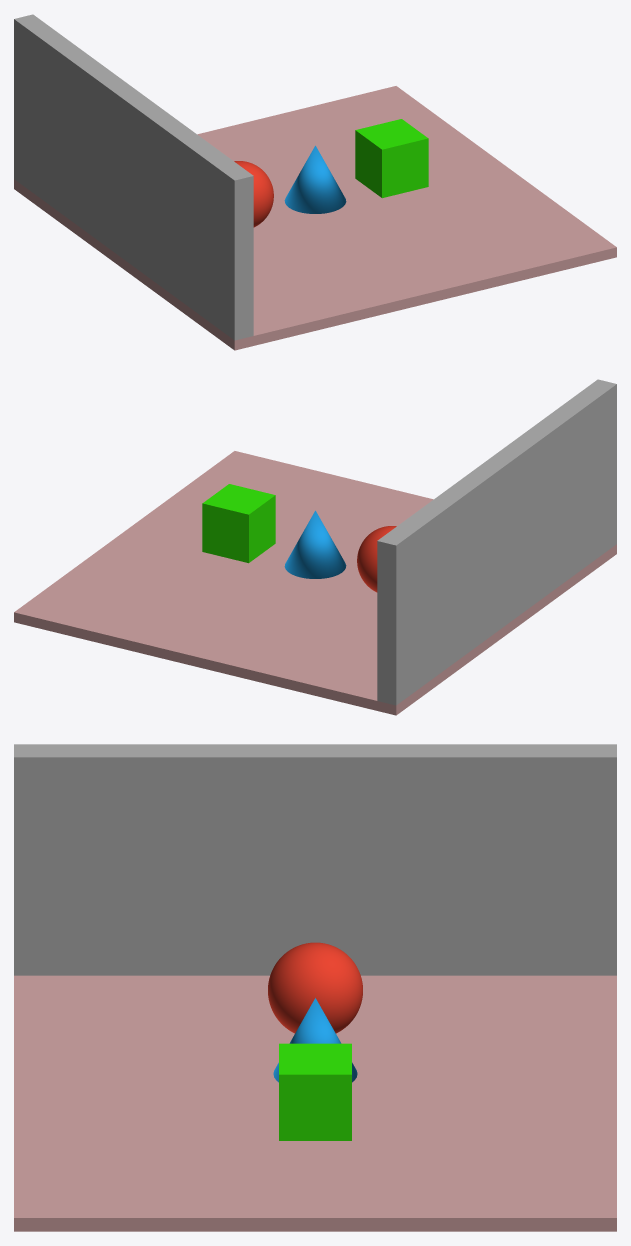
Rendered from TestSceneNew.fbx.
3 views of the same model, one above another, from view 1: azimuth 30°, elevation 25°; view 2: azimuth 150°, elevation 25°; view 3: azimuth 270°, elevation 25° (orthographic). The views are drawn at different scales.
Parts seen in each view (by area): view 1: Floor, Wall, Cube, Cone, Sphere; view 2: Floor, Wall, Cube, Cone, Sphere; view 3: Floor, Wall, Cube, Sphere, Cone.
Part boxes in pixels (left/top/right/bottom): Floor: left=14, top=86, right=616, bottom=350; Wall: left=14, top=14, right=253, bottom=340; Cube: left=355, top=119, right=428, bottom=198; Cone: left=284, top=145, right=346, bottom=213; Sphere: left=234, top=161, right=273, bottom=227; Floor: left=14, top=451, right=616, bottom=715; Wall: left=377, top=379, right=616, bottom=705; Cube: left=202, top=484, right=275, bottom=563; Cone: left=284, top=510, right=346, bottom=578; Sphere: left=357, top=526, right=396, bottom=592; Floor: left=14, top=975, right=616, bottom=1231; Wall: left=14, top=744, right=616, bottom=975; Cube: left=279, top=1043, right=351, bottom=1140; Sphere: left=268, top=942, right=362, bottom=1033; Cone: left=273, top=998, right=357, bottom=1082.
Bounding box in the file's own units: 2000 × 850 × 2000.
